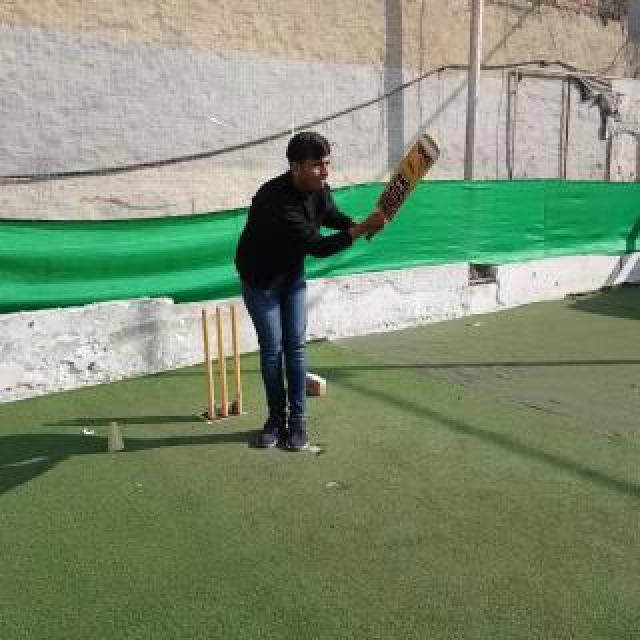bat: (366, 134, 442, 242)
